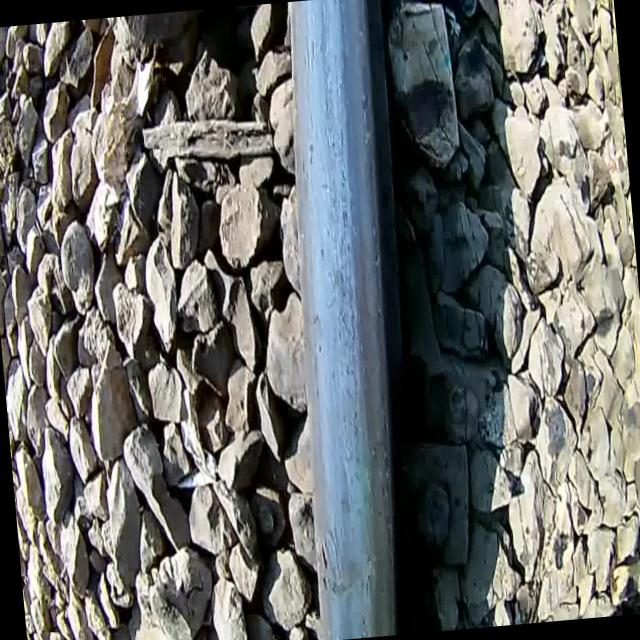Squats: (310, 458, 372, 613)
